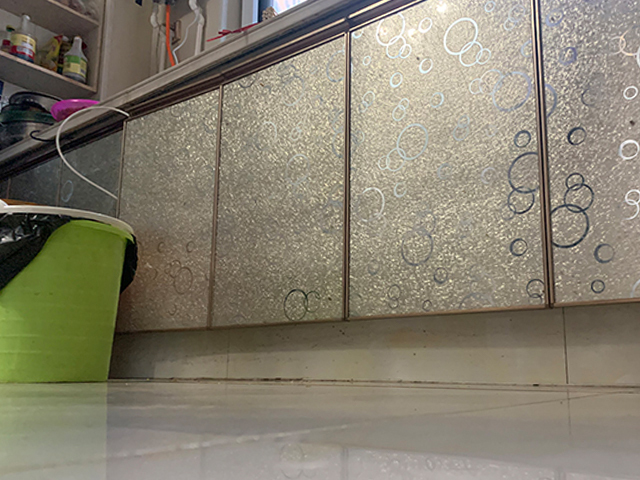cabinet: (117, 1, 640, 387)
trashcan: (1, 200, 135, 383)
